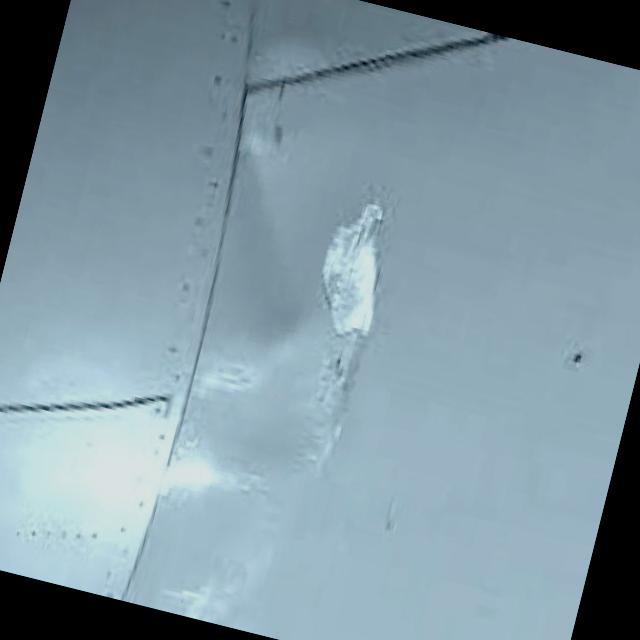dent: (272, 179, 402, 463)
